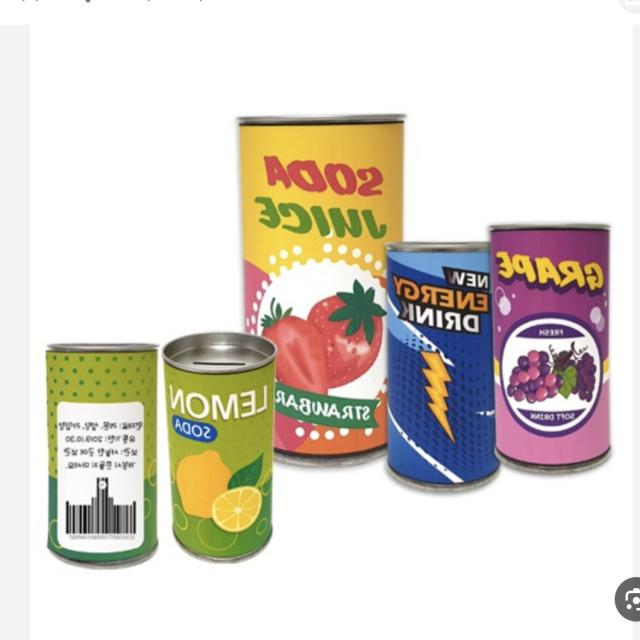can: (230, 84, 422, 478), (487, 198, 622, 480), (39, 317, 171, 579), (150, 317, 286, 571), (379, 226, 502, 490)
